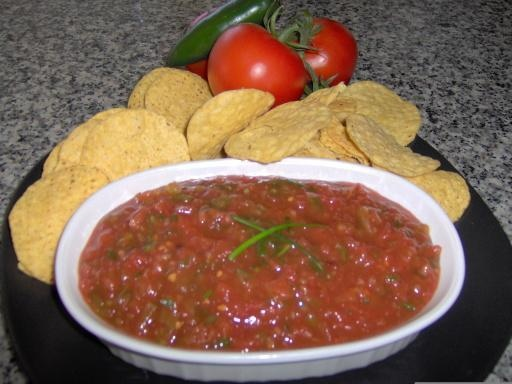background: (6, 0, 376, 171), (62, 104, 352, 211)
